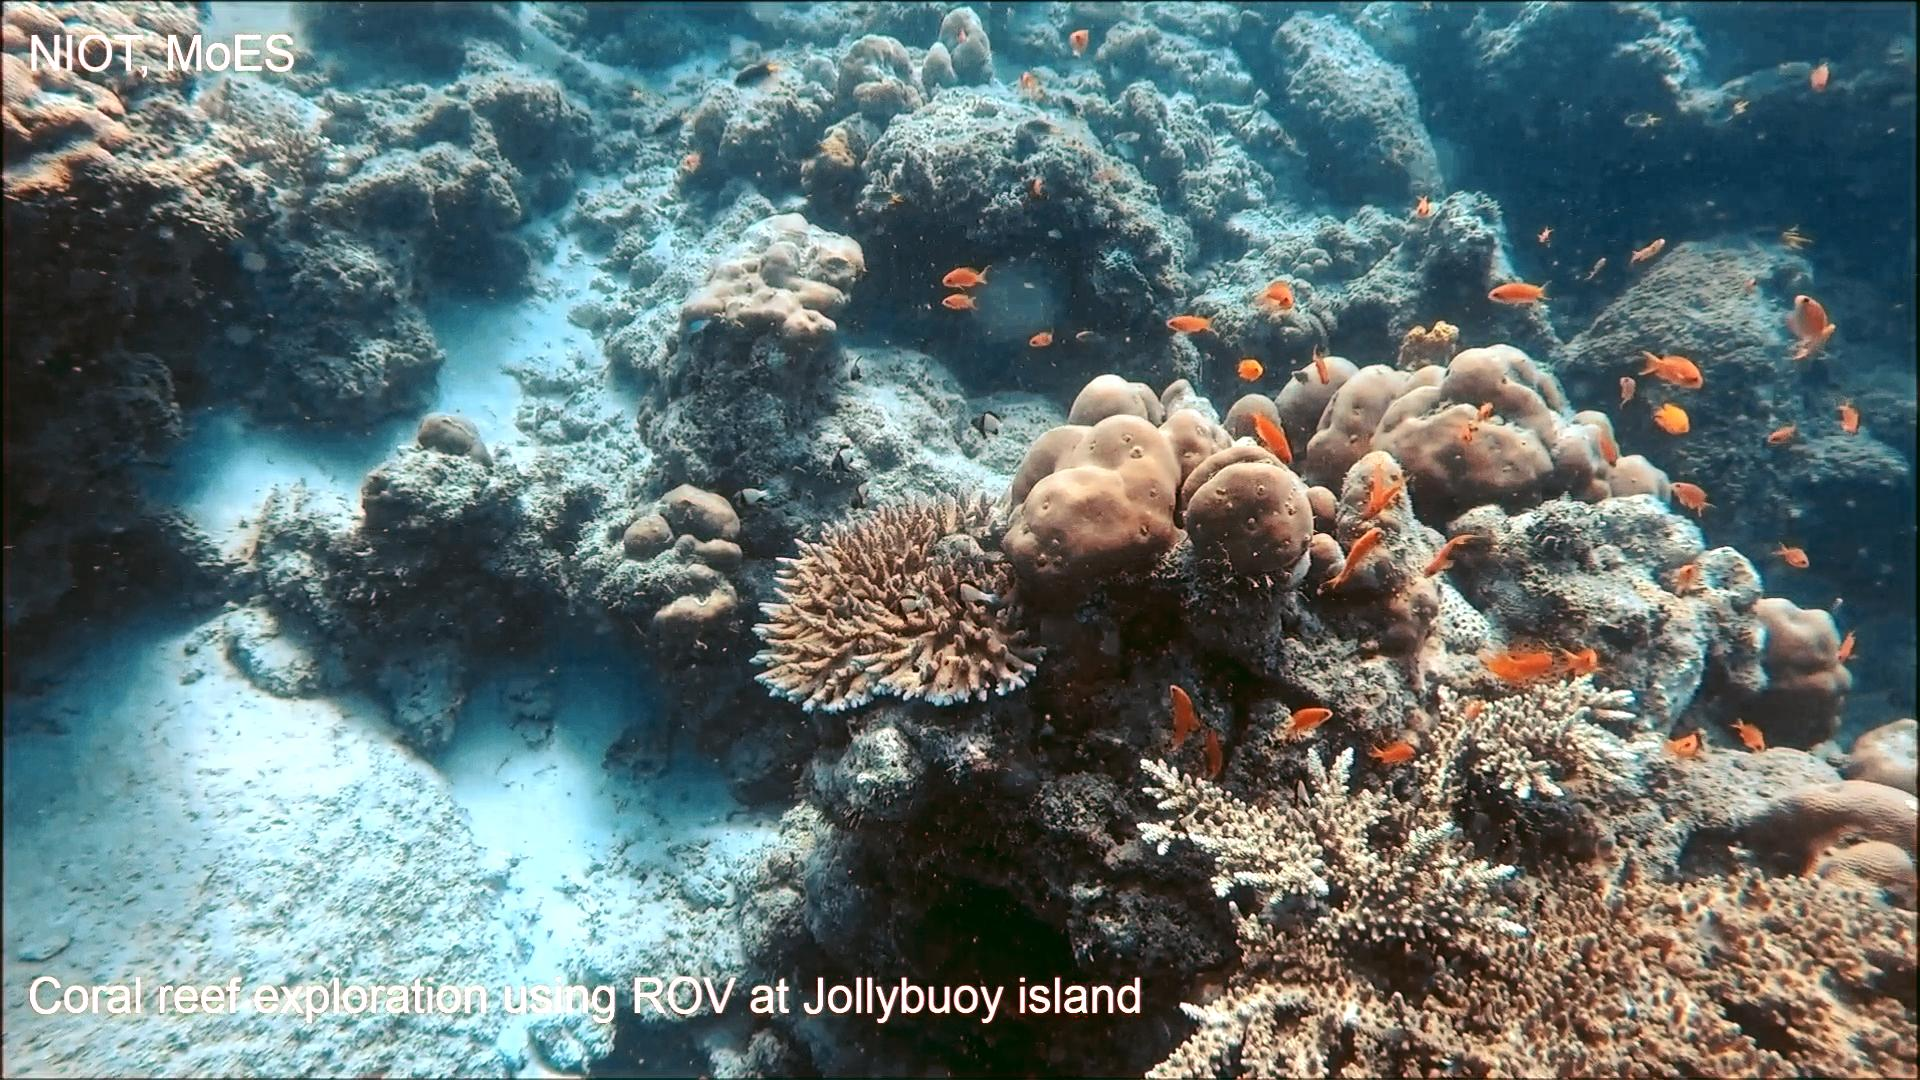Porites-Porites pukoensis: (990, 363, 1320, 611), (1255, 335, 1680, 525)
